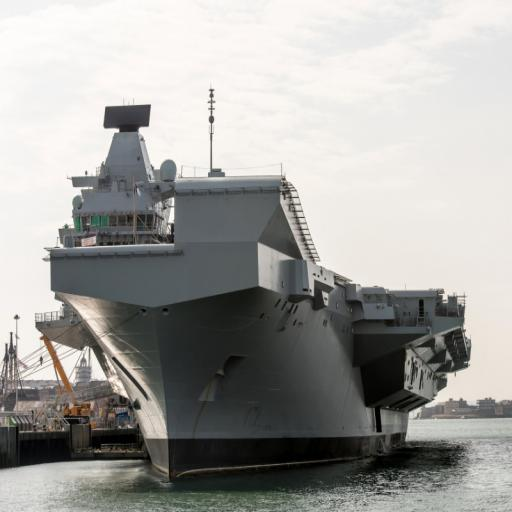Portanaves: (36, 43, 479, 495)
